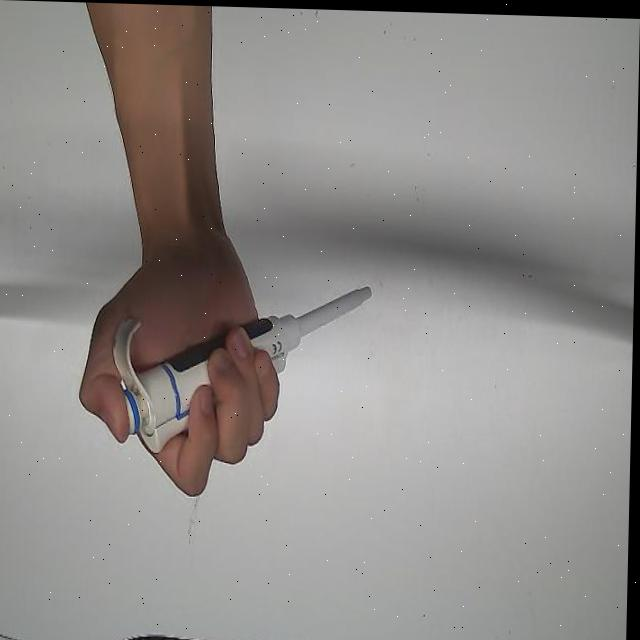Single Channel Pipettor: (110, 279, 379, 459)
